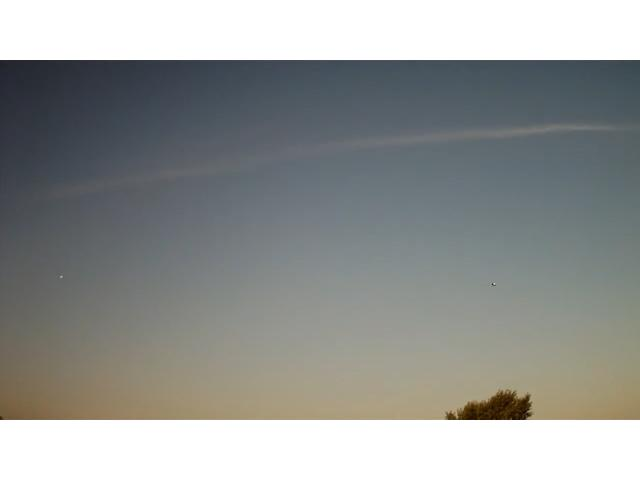Anti-Drone: (487, 280, 503, 290)
